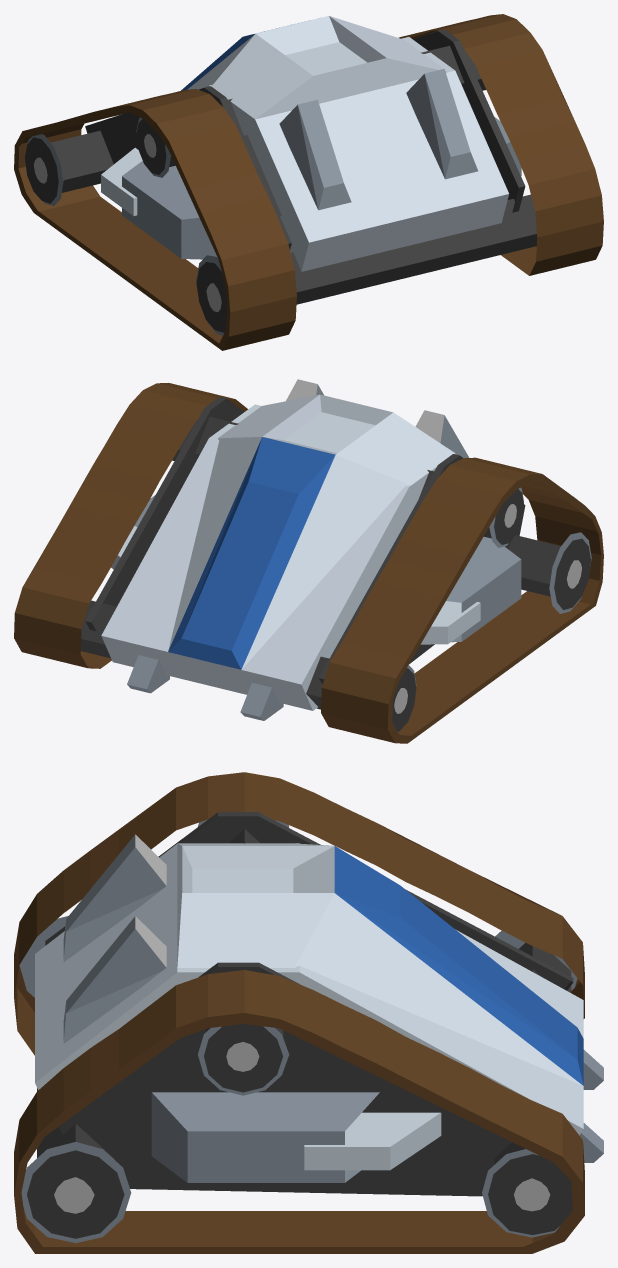
Rendered from player.FBX.
The picture shows the model from 3 angles, top to bottom: view 1: azimuth 30°, elevation 25°; view 2: azimuth 150°, elevation 25°; view 3: azimuth 270°, elevation 25°; orthographic projection. The views are drawn at different scales.
Visible parts, largest first — view 1: VIFS006, VIFS001, VIFS004, VIFS002, VIFS003, VIFS005; view 2: VIFS006, VIFS001, VIFS005, VIFS004, VIFS002, VIFS003; view 3: VIFS006, VIFS001, VIFS004, VIFS002, VIFS005, VIFS003.
Part boxes in pixels (left/top/right/bottom): VIFS006: left=14, top=14, right=603, bottom=350; VIFS001: left=101, top=16, right=508, bottom=271; VIFS004: left=25, top=29, right=537, bottom=332; VIFS002: left=27, top=68, right=521, bottom=335; VIFS003: left=34, top=134, right=221, bottom=312; VIFS005: left=181, top=24, right=291, bottom=90; VIFS006: left=14, top=383, right=603, bottom=743; VIFS001: left=101, top=394, right=480, bottom=710; VIFS005: left=168, top=437, right=335, bottom=669; VIFS004: left=81, top=397, right=590, bottom=731; VIFS002: left=127, top=384, right=591, bottom=732; VIFS003: left=286, top=379, right=581, bottom=713; VIFS006: left=14, top=772, right=584, bottom=1253; VIFS001: left=35, top=843, right=583, bottom=1170; VIFS004: left=27, top=812, right=573, bottom=1238; VIFS002: left=19, top=819, right=603, bottom=1243; VIFS005: left=334, top=846, right=583, bottom=1085; VIFS003: left=54, top=834, right=550, bottom=1213.
Bounding box in the file's own units: 0.84 × 0.426 × 0.87.
